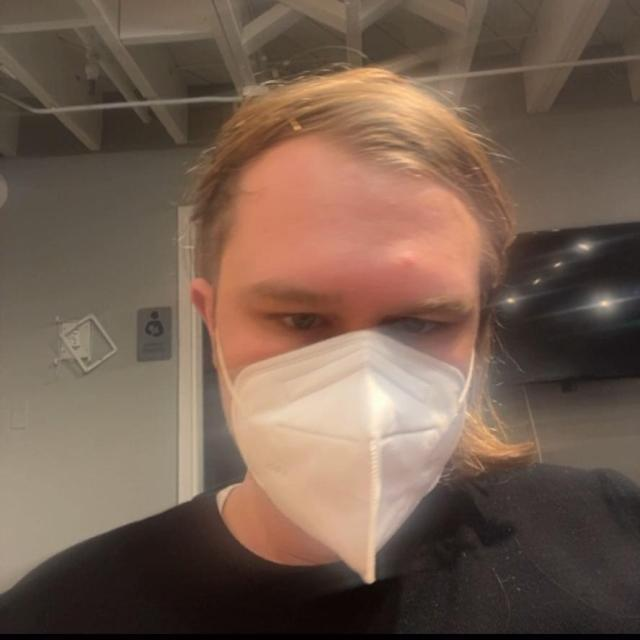1_mascarilla: (224, 336, 477, 586)
